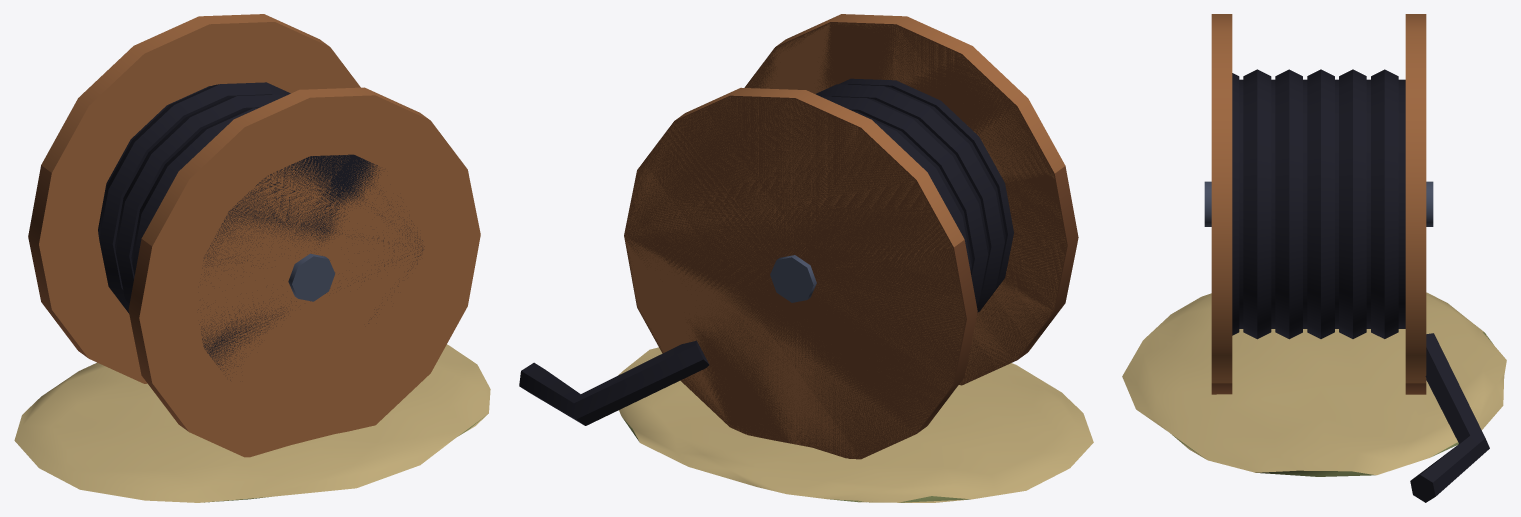
The model's file is CableReel.fbx.
3 renders of one model, left to right at view 1: azimuth 30°, elevation 25°; view 2: azimuth 150°, elevation 25°; view 3: azimuth 270°, elevation 25°, orthographic. The views are drawn at different scales.
Parts seen in each view (by area): view 1: CableReel; view 2: CableReel; view 3: CableReel.
Boxes of the visible parts, <box> form: CableReel: <box>14,14,490,502</box>; CableReel: <box>519,14,1093,502</box>; CableReel: <box>1122,14,1506,502</box>.
Size of the model in its own units: 1.57 by 1.1 by 1.11.
1 material, 1 textured.
